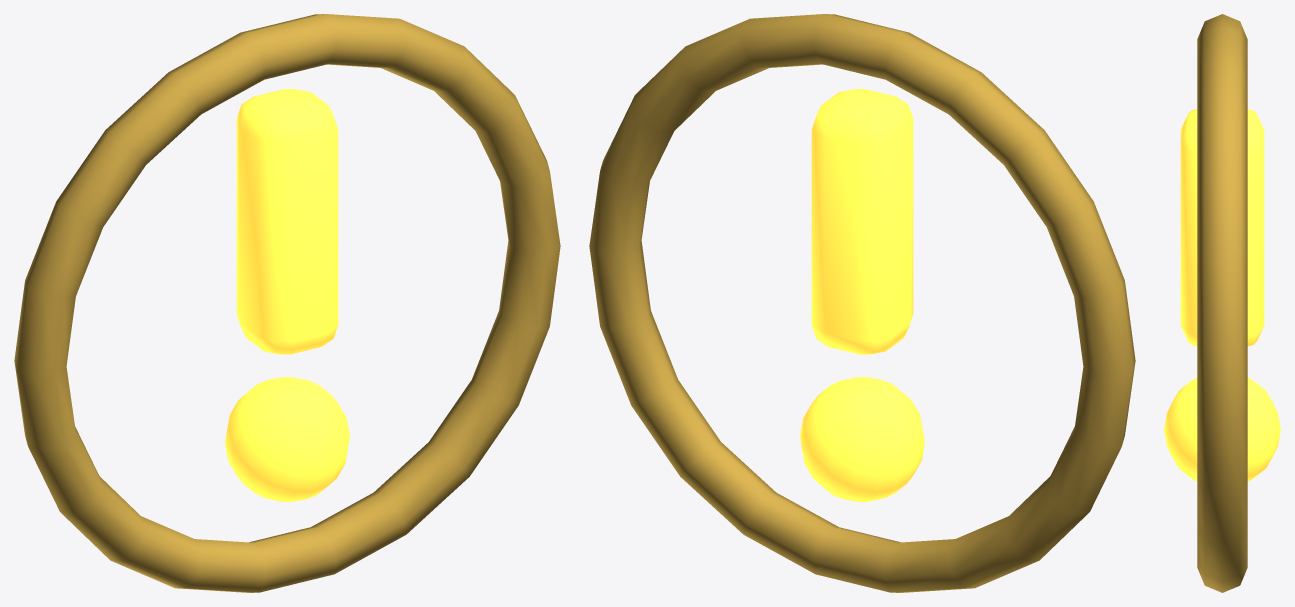
The model's file is Feedback_NeedsAttention.fbx.
3 views of the same model, side by side, from view 1: azimuth 30°, elevation 25°; view 2: azimuth 150°, elevation 25°; view 3: azimuth 270°, elevation 25° (orthographic). The views are drawn at different scales.
Visible parts, largest first — view 1: FeedbackAttention_Brass, FeedbackAttention_StatusAmber; view 2: FeedbackAttention_Brass, FeedbackAttention_StatusAmber; view 3: FeedbackAttention_Brass, FeedbackAttention_StatusAmber.
Boxes of the visible parts, x1,y1,x2,y2 form: FeedbackAttention_Brass: (14,14,560,592); FeedbackAttention_StatusAmber: (225,89,349,501); FeedbackAttention_Brass: (589,14,1135,592); FeedbackAttention_StatusAmber: (800,89,924,501); FeedbackAttention_Brass: (1197,14,1247,592); FeedbackAttention_StatusAmber: (1164,109,1280,481).
Bounding box in the file's own units: 4.16 × 4.12 × 0.84.
